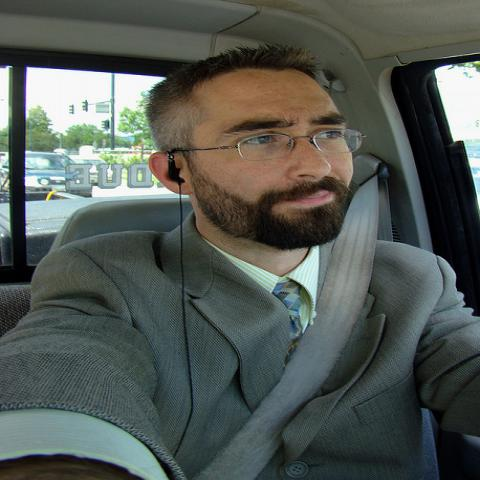car: (25, 150, 80, 192), (68, 153, 120, 185)
